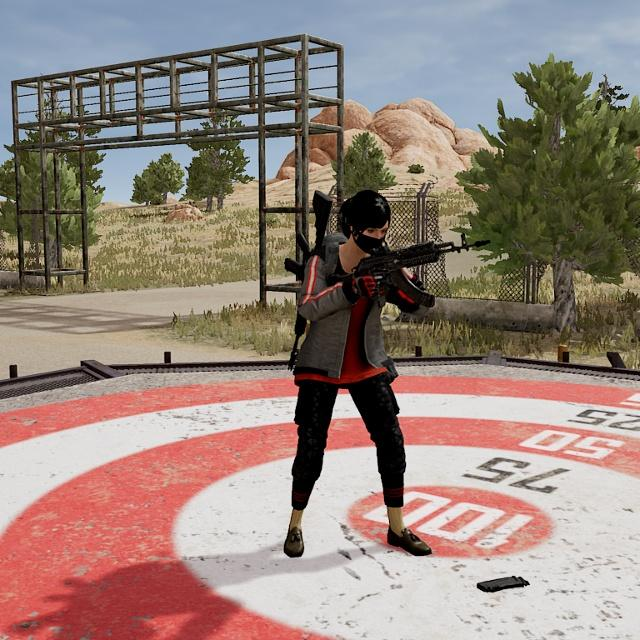head: (339, 184, 394, 258)
people: (269, 180, 450, 569)
